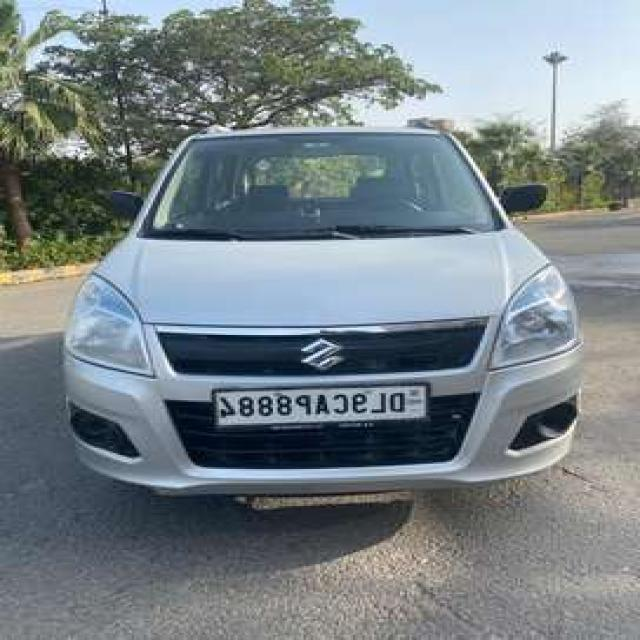license_plate: (210, 381, 431, 430)
